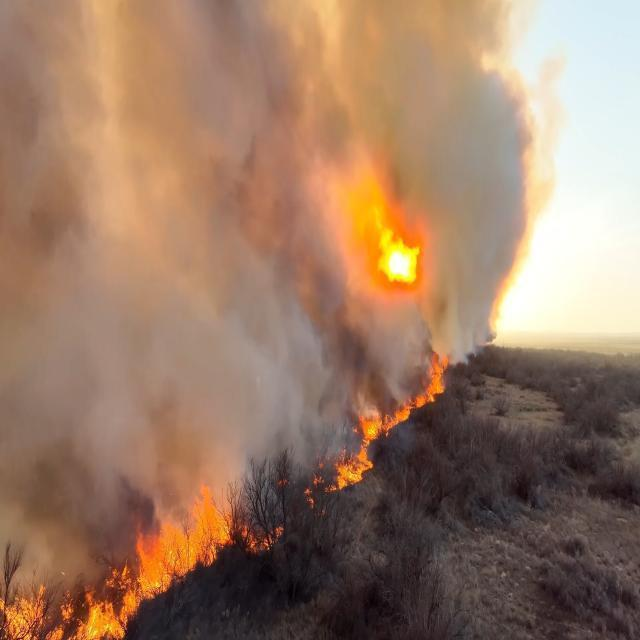Fire: (122, 476, 239, 618), (419, 357, 445, 414)
Smoke: (2, 0, 349, 418), (11, 0, 125, 562), (430, 36, 537, 317)
